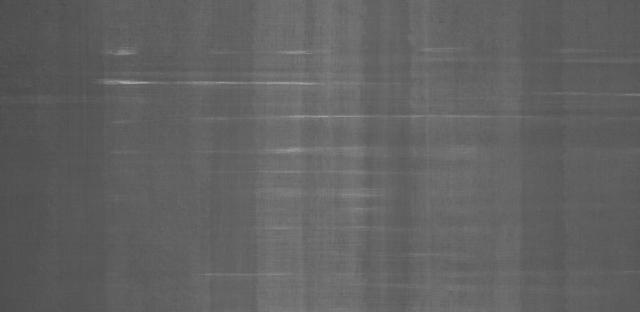waist_folding: (72, 28, 640, 285)
